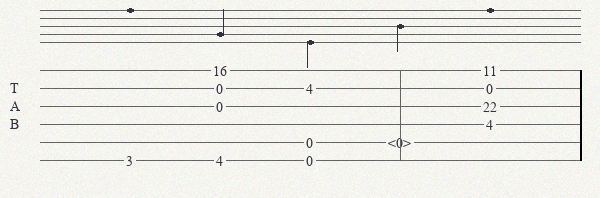0: (216, 81, 227, 95), (216, 99, 227, 113), (306, 153, 317, 167), (306, 135, 317, 149), (486, 81, 497, 95)
11: (483, 63, 501, 77)
16: (213, 63, 231, 77)
22: (483, 99, 501, 113)
3: (126, 153, 137, 167)
4: (216, 153, 227, 167), (306, 81, 317, 95), (486, 117, 497, 131)
harmonic: (388, 135, 415, 149)
